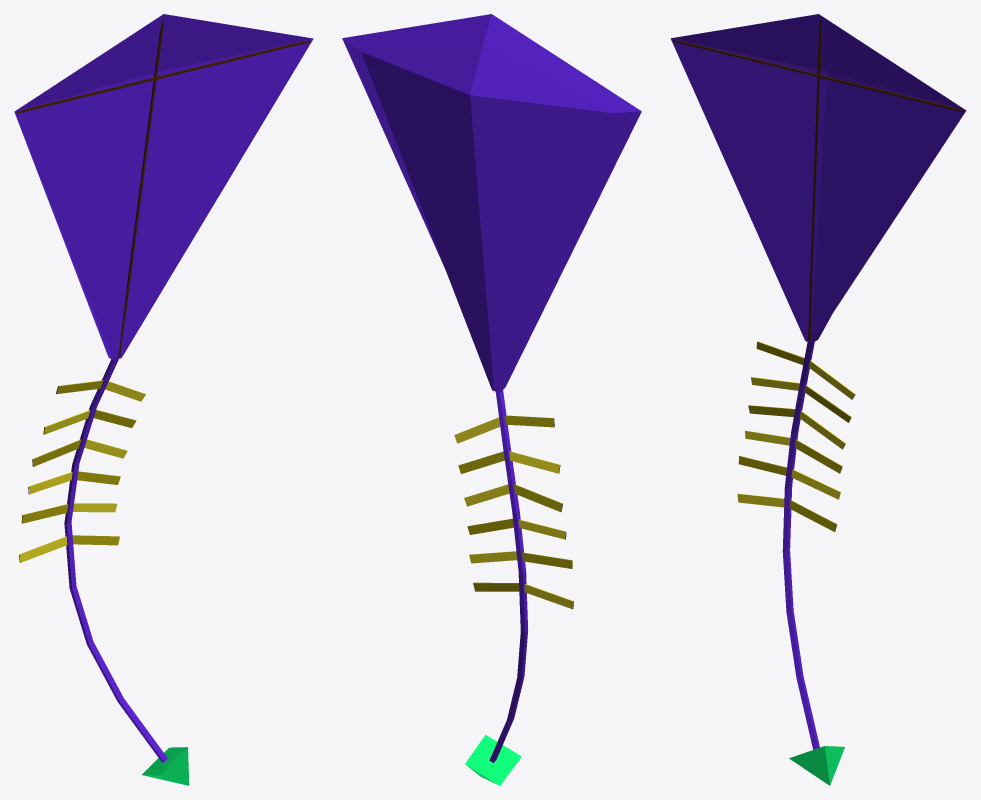
Rendered from kite.glb.
3 views of the same model, side by side, from view 1: azimuth 30°, elevation 25°; view 2: azimuth 150°, elevation 25°; view 3: azimuth 330°, elevation 25° (orthographic).
Visible parts, largest first — view 1: Kite_0; view 2: Kite_0; view 3: Kite_0.
Part boxes in pixels (x1,y1,x2,y2): Kite_0: [14, 14, 313, 785]; Kite_0: [342, 14, 641, 785]; Kite_0: [670, 14, 966, 785].
Size of the model in its own units: 2.51 by 6.18 by 0.6989.
Materials: 5 (5 with a texture image).
